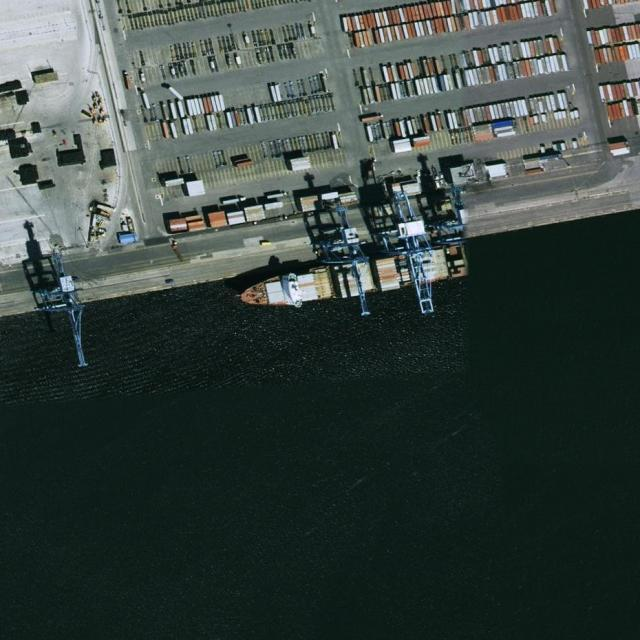Container Ship: (235, 243, 474, 316)
